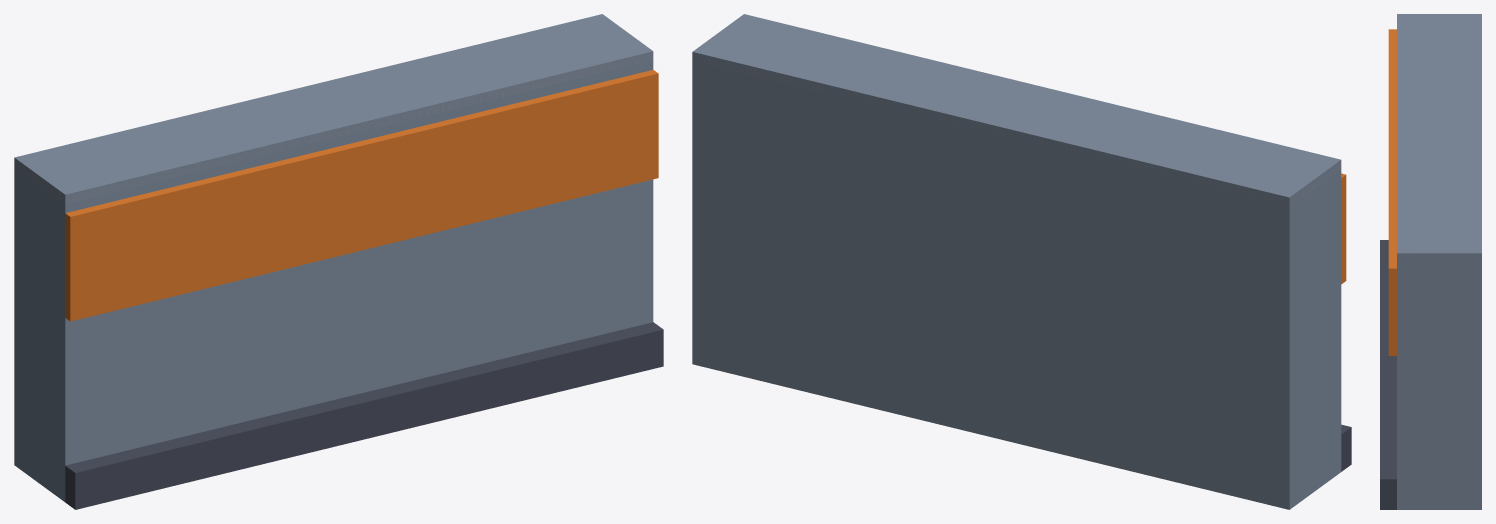
File: wall.glb
3 views of the same model, side by side, from view 1: azimuth 30°, elevation 25°; view 2: azimuth 150°, elevation 25°; view 3: azimuth 270°, elevation 25° (orthographic). The views are drawn at different scales.
Visible parts, largest first — view 1: wall; view 2: wall; view 3: wall.
Part boxes in pixels (bbox=[...]): wall: bbox=[14, 14, 663, 509]; wall: bbox=[692, 14, 1351, 509]; wall: bbox=[1380, 14, 1481, 509].
Size of the model in its own units: 1 by 0.5 by 0.18.
1 material, 1 textured.
